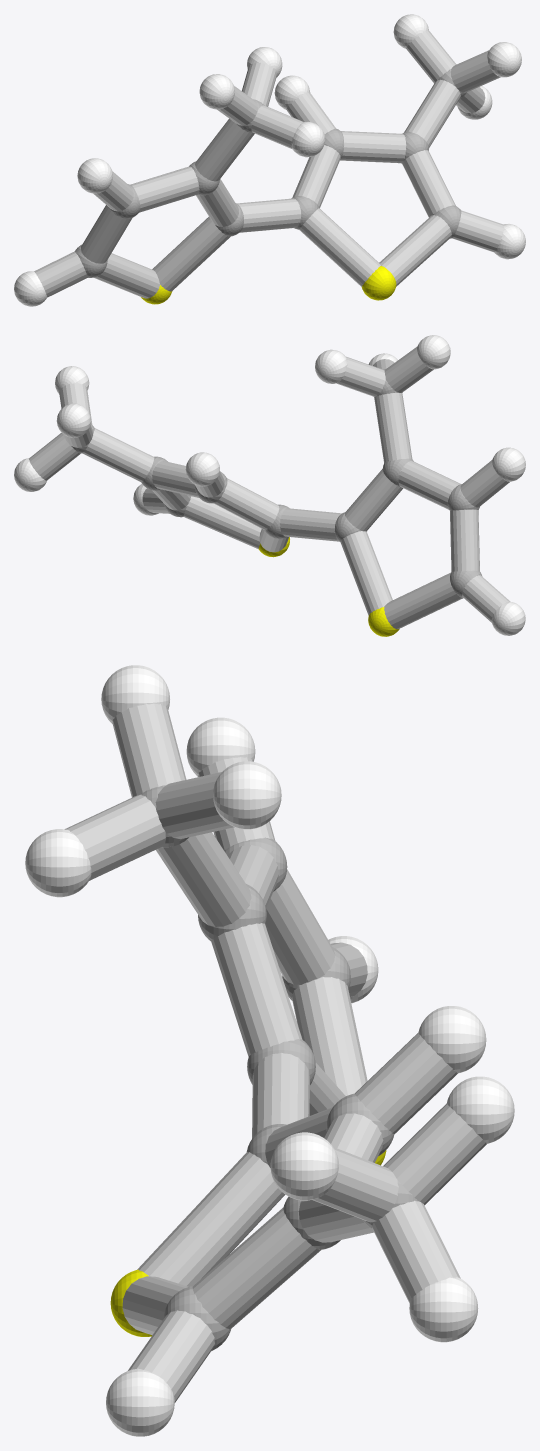
File: color.glb
3 views of the same model, one above another, from view 1: azimuth 30°, elevation 25°; view 2: azimuth 150°, elevation 25°; view 3: azimuth 270°, elevation 25° (orthographic). The views are drawn at different scales.
Visible parts, largest first — view 1: grp7965, grp3621, grp1, grp7241; view 2: grp7965, grp3621, grp1, grp7241; view 3: grp7965, grp3621, grp1, grp7241.
Boxes of the visible parts, x1=… form: grp7965: x1=34, y1=30, x2=504, y2=298; grp3621: x1=14, y1=14, x2=525, y2=306; grp1: x1=74, y1=69, x2=466, y2=277; grp7241: x1=141, y1=266, x2=396, y2=304; grp7965: x1=29, y1=347, x2=510, y2=629; grp3621: x1=14, y1=335, x2=525, y2=635; grp1: x1=71, y1=369, x2=482, y2=597; grp7241: x1=258, y1=537, x2=399, y2=636; grp7965: x1=64, y1=703, x2=486, y2=1402; grp3621: x1=25, y1=665, x2=514, y2=1436; grp1: x1=139, y1=785, x2=417, y2=1350; grp7241: x1=110, y1=1150, x2=386, y2=1336.
Size of the model in its own units: 9.71 by 4.95 by 4.27.
